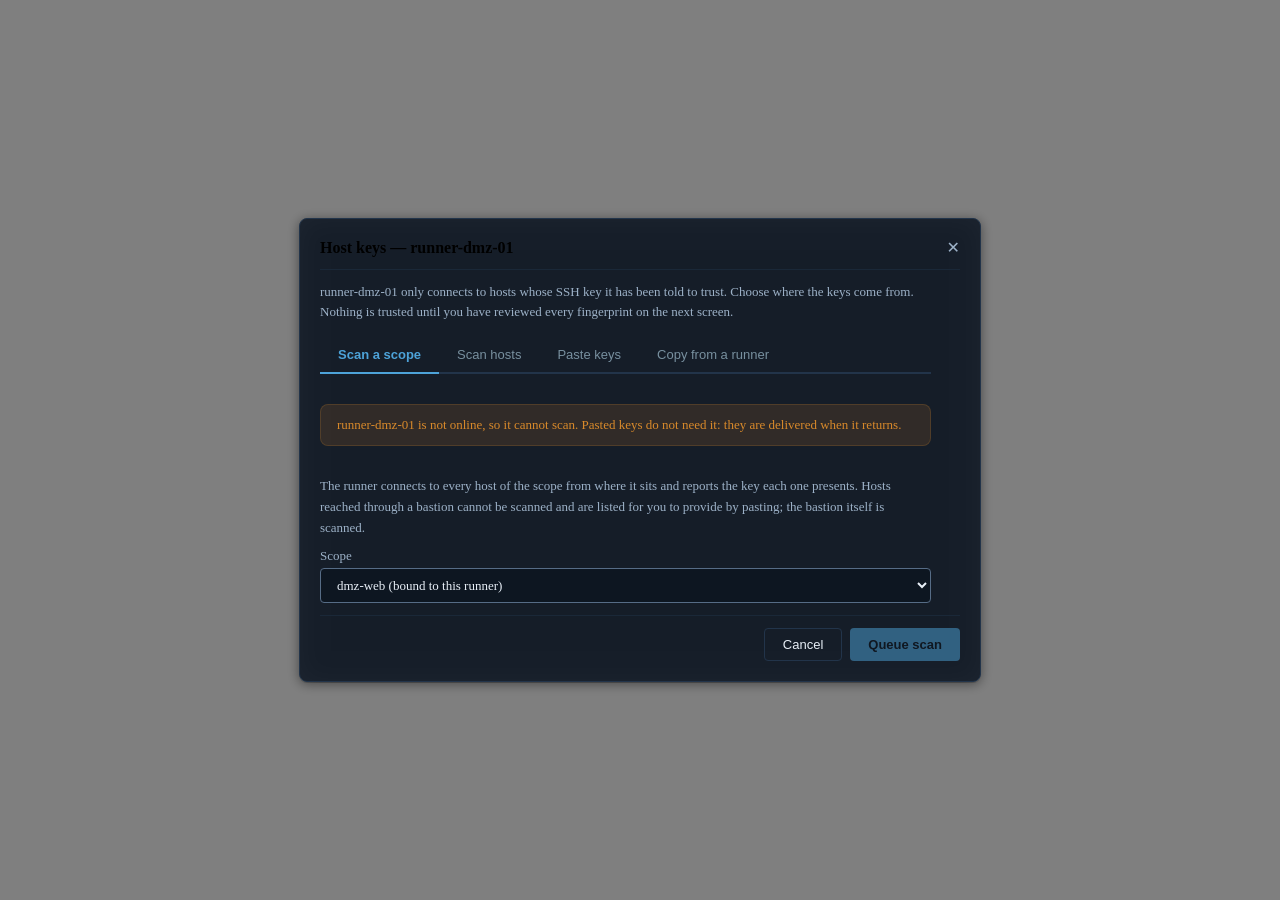
Test case: the host keys dialog › will not queue a scan on a runner that is not online, and says pasting still works
expect the text "runner-dmz-01 is not online, so it cannot scan" is shown: met, box [337,417,914,433]
expect the button "Queue scan" is disabled: met, box [850,628,960,662]
Click the button "Paste keys" at (589, 356), box [539,337,639,374]
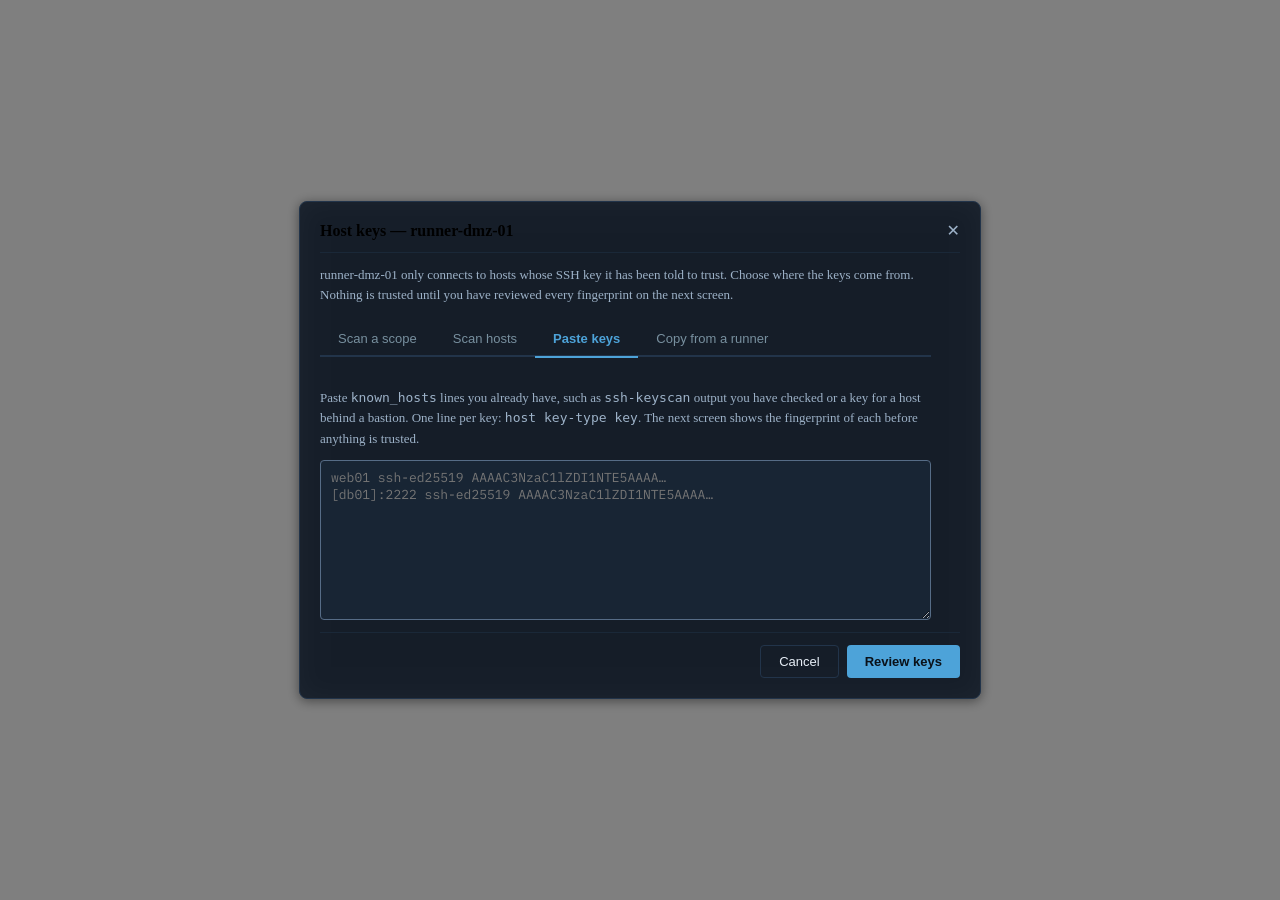
expect the button "Review keys" is enabled: met, box [847,645,960,678]
